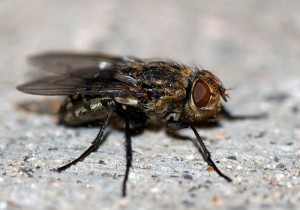fly: (13, 47, 238, 200)
